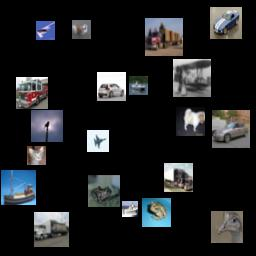airplane: (173, 59, 211, 97), (87, 130, 109, 152), (36, 21, 55, 40)
automobile: (212, 110, 250, 148), (210, 7, 242, 39), (97, 72, 126, 101)
bird: (211, 211, 243, 243), (31, 110, 63, 142)
cat: (27, 146, 46, 165)
dog: (176, 107, 205, 136), (72, 20, 91, 39)
frog: (88, 175, 120, 207), (142, 198, 171, 227)
ship: (1, 170, 36, 205), (129, 76, 148, 95), (122, 201, 138, 217)
truck: (145, 18, 183, 56), (34, 212, 69, 247), (16, 77, 48, 109), (164, 163, 193, 192)
